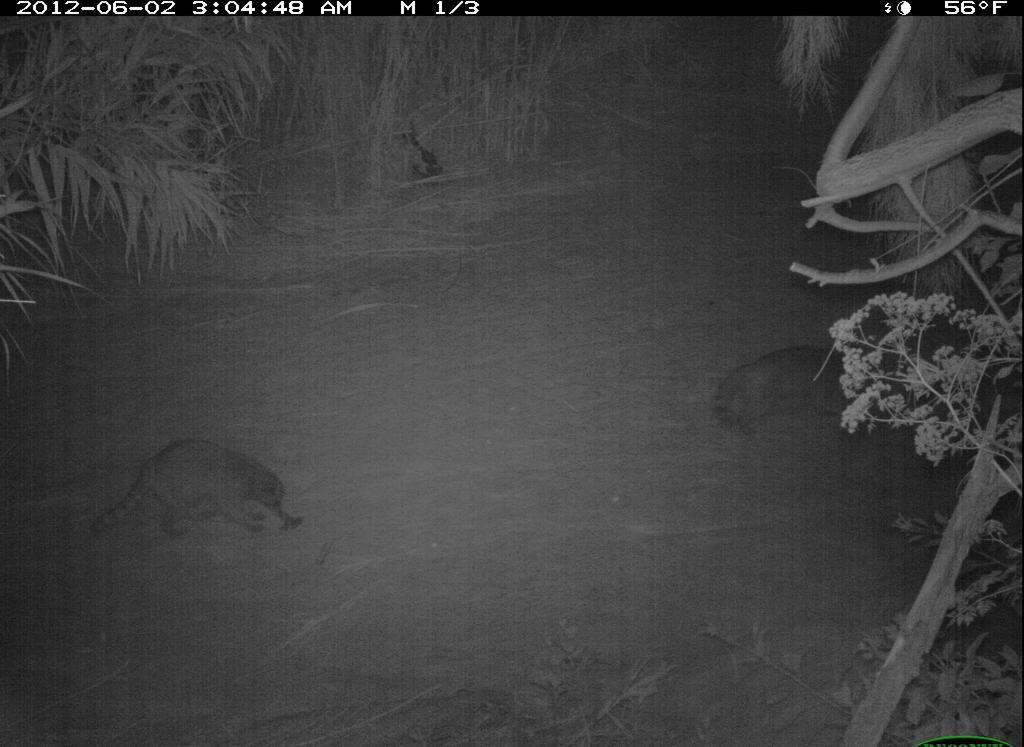raccoon: (685, 315, 935, 455), (88, 434, 304, 566)
